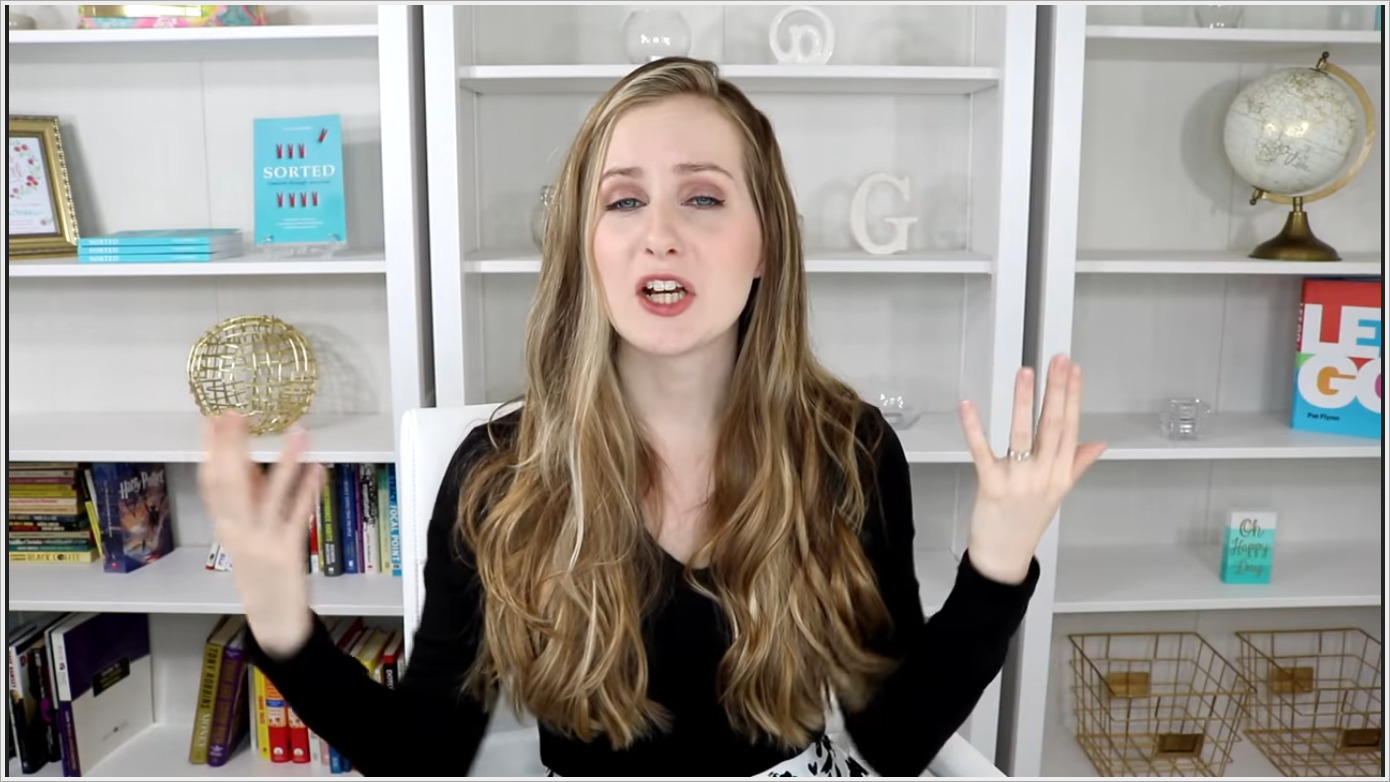hand: (957, 348, 1114, 570), (195, 408, 340, 642)
